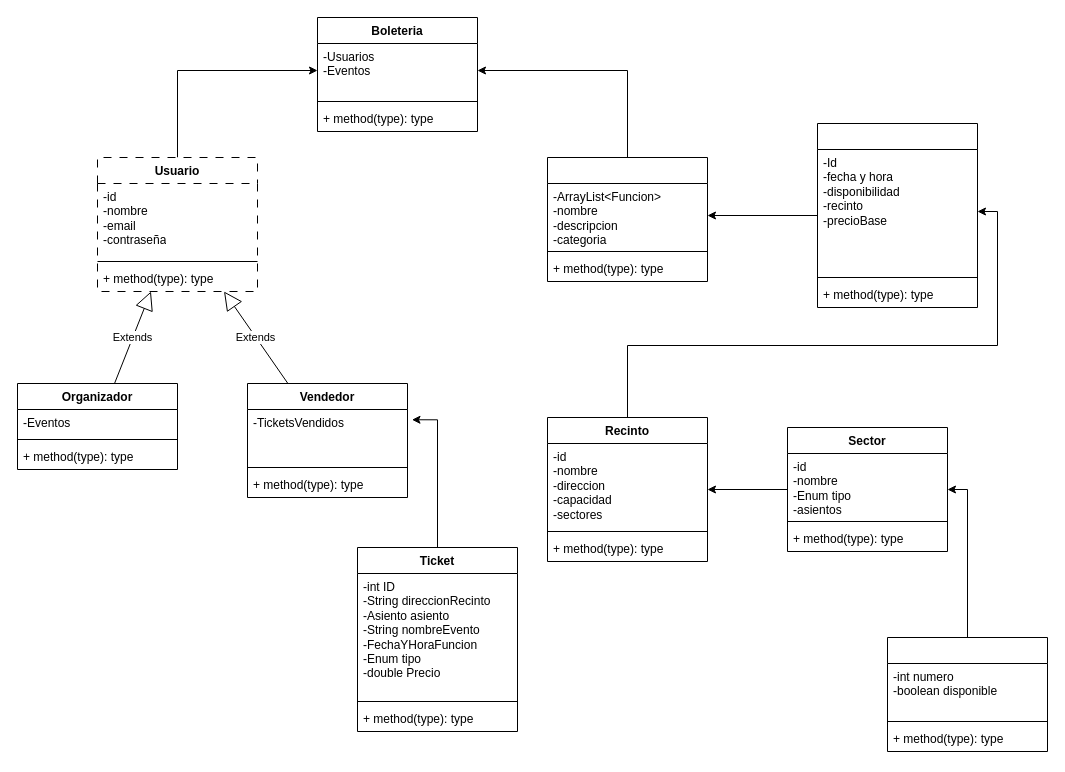
Image size: 1065x772. Some labels were removed from this diagram. The shapes that lost their labels are listed below. From the top down, each one's box as (x1, y1, x2, y2) in pixels, then its label:
(546, 156, 708, 282): Evento
(816, 122, 978, 308): Funcion
(886, 636, 1048, 752): Asiento
